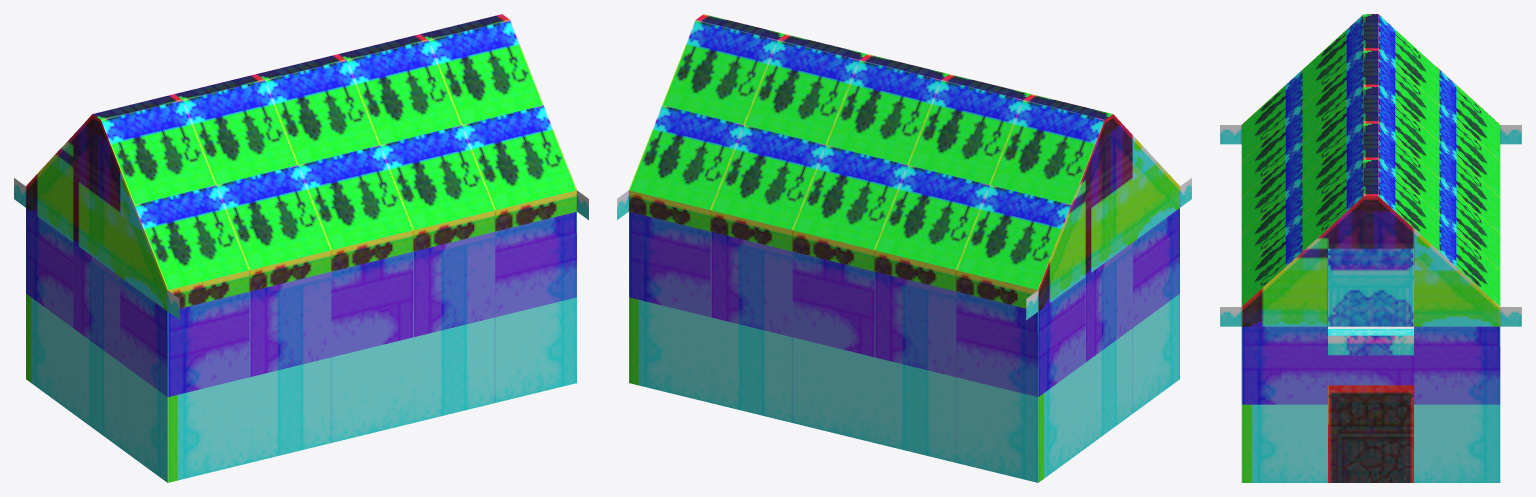
The model's file is HQHouse.fbx.
3 renders of one model, left to right at view 1: azimuth 30°, elevation 25°; view 2: azimuth 150°, elevation 25°; view 3: azimuth 270°, elevation 25°, orthographic. The views are drawn at different scales.
Visible parts, largest first — view 1: House_Plain_01:Mesh; view 2: House_Plain_01:Mesh; view 3: House_Plain_01:Mesh.
Boxes of the visible parts, x1,y1,x2,y2 form: House_Plain_01:Mesh: [14, 14, 588, 482]; House_Plain_01:Mesh: [617, 14, 1191, 482]; House_Plain_01:Mesh: [1220, 14, 1521, 482].
Bounding box in the file's own units: 5.25 × 3.67 × 3.5.
